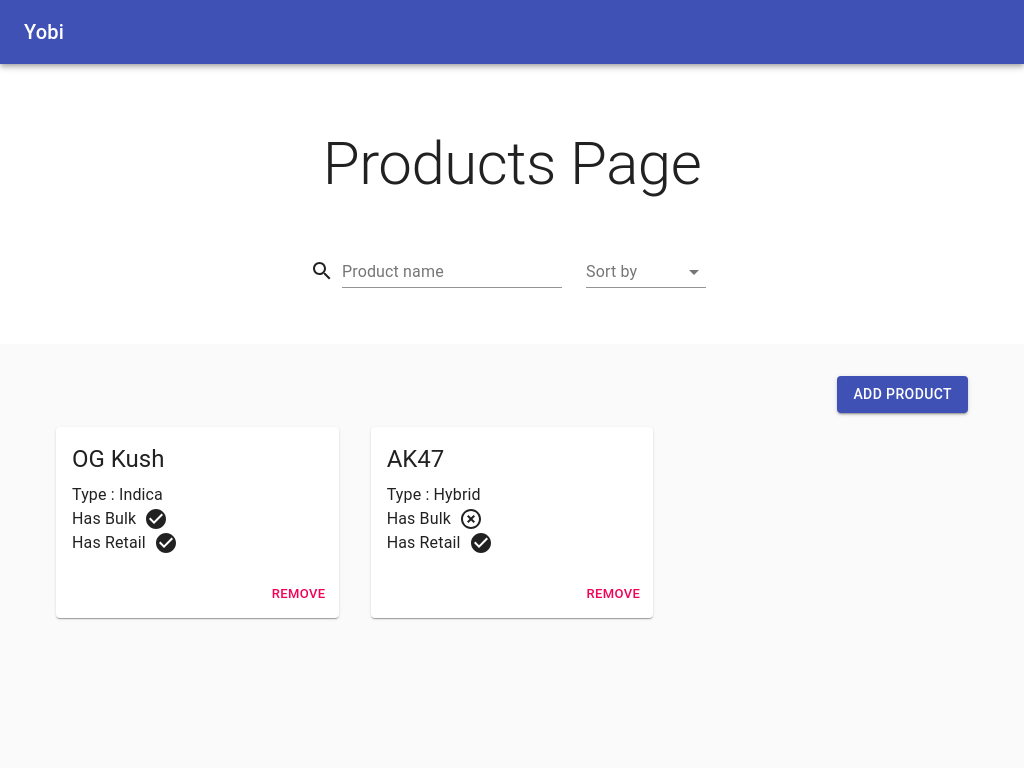
Load page succesful › add item
Click the button with test id "add-product-button": [903, 395] box [837, 376, 968, 413]
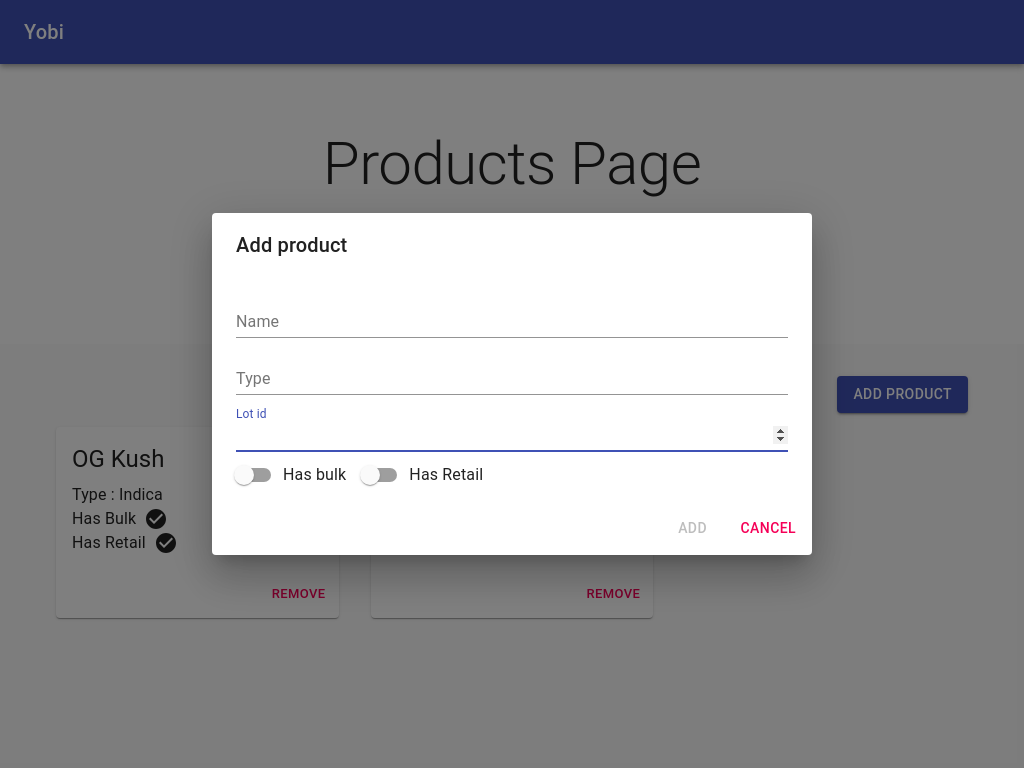
Now the button with test id "button-add-product" is disabled, box [661, 510, 725, 547]
In the field labelled "Name": [512, 324] box [236, 309, 788, 338], type "a name"
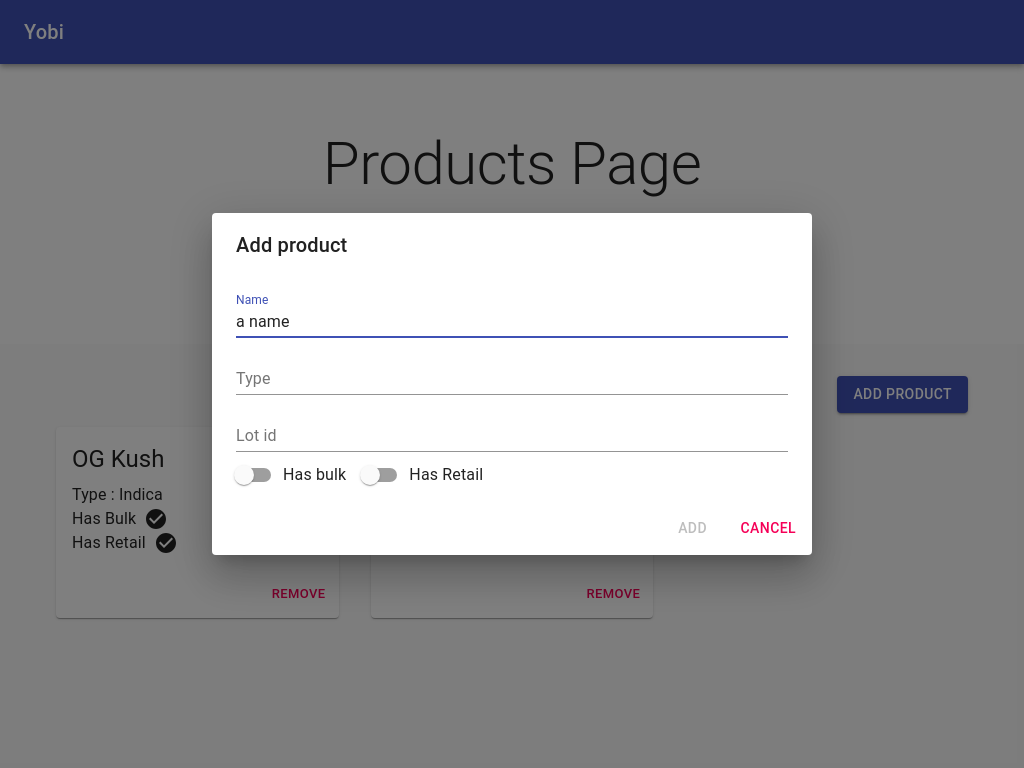
In the field labelled "Type": [512, 381] box [236, 366, 788, 395], type "a type"
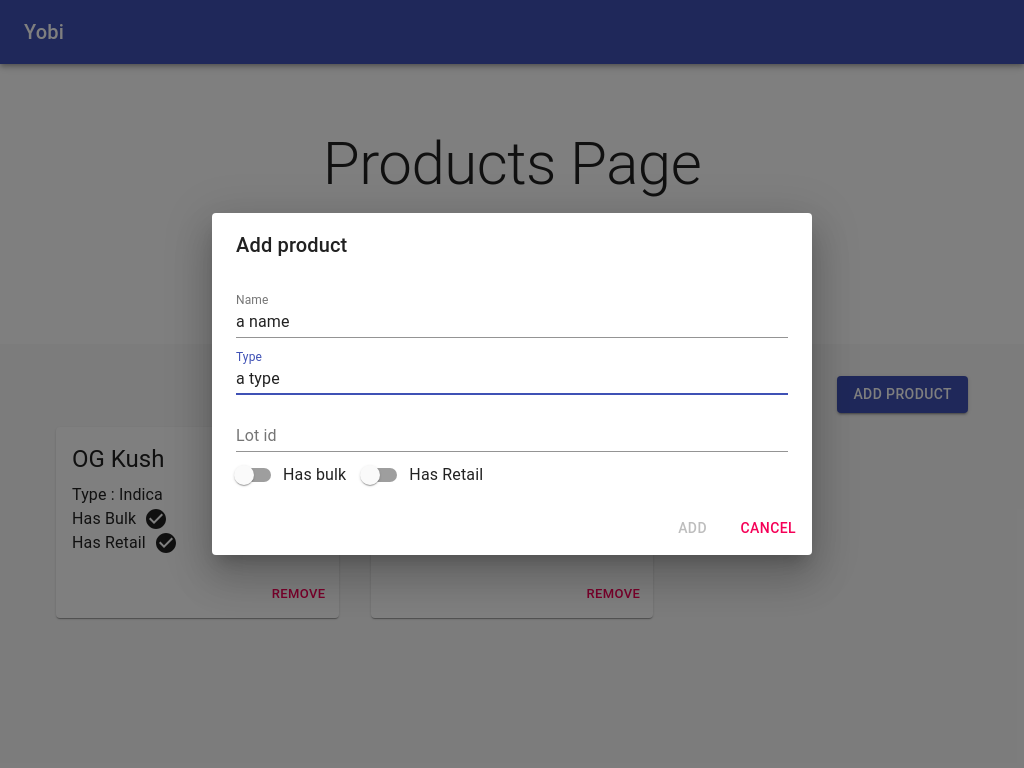
In the number field labelled "Lot id": [512, 438] box [236, 423, 788, 452], type "10"
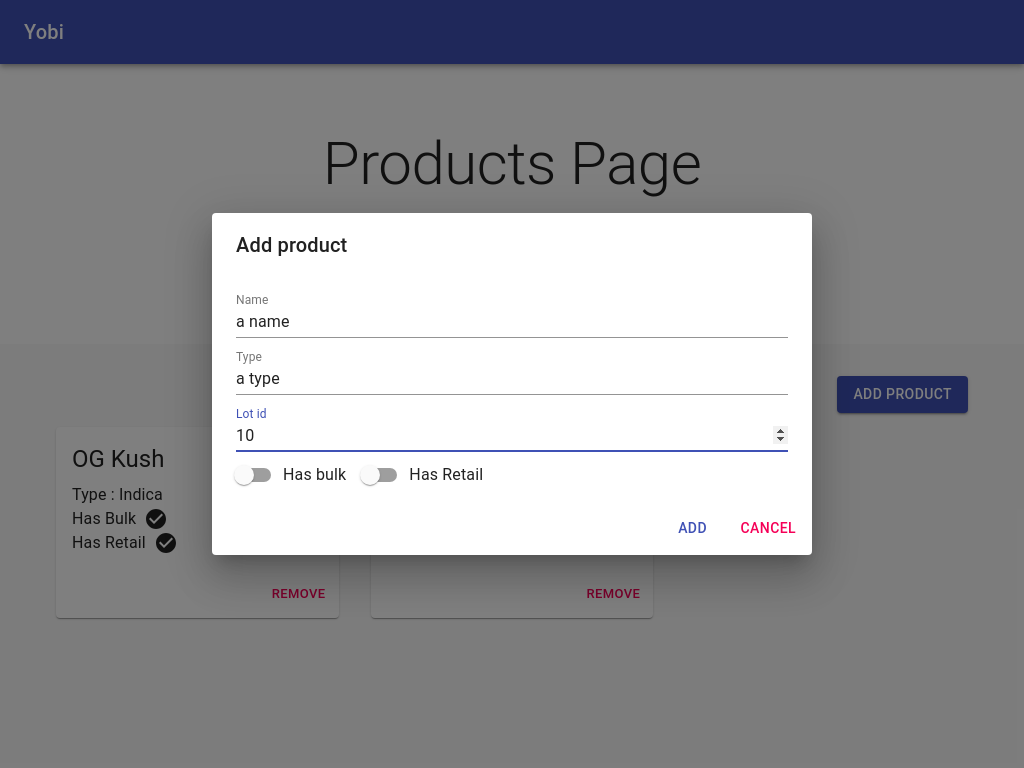
Click the button with test id "button-add-product": [693, 529] box [661, 510, 725, 547]
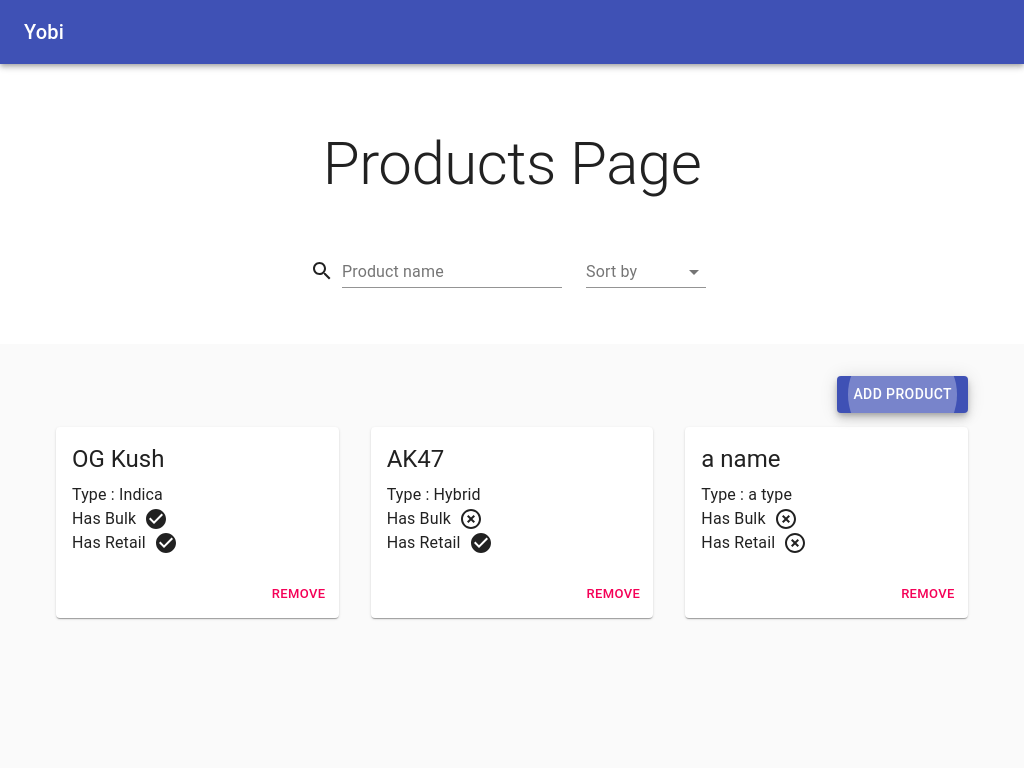
Now the number of headings with test id "name" is 3, box [72, 444, 164, 472]; [387, 444, 444, 472]; [701, 444, 780, 472]
